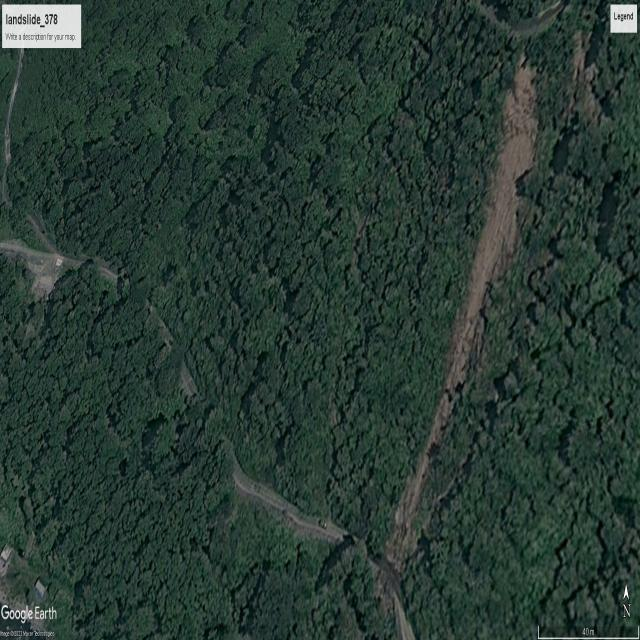Landslide: (386, 56, 542, 569)
